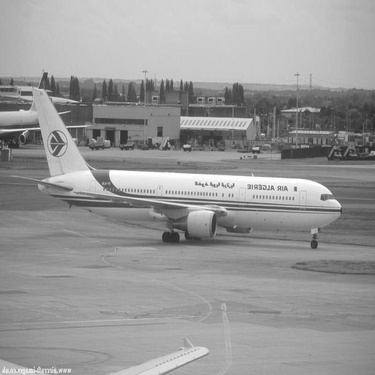airplane: (14, 83, 349, 255), (1, 67, 58, 148)
